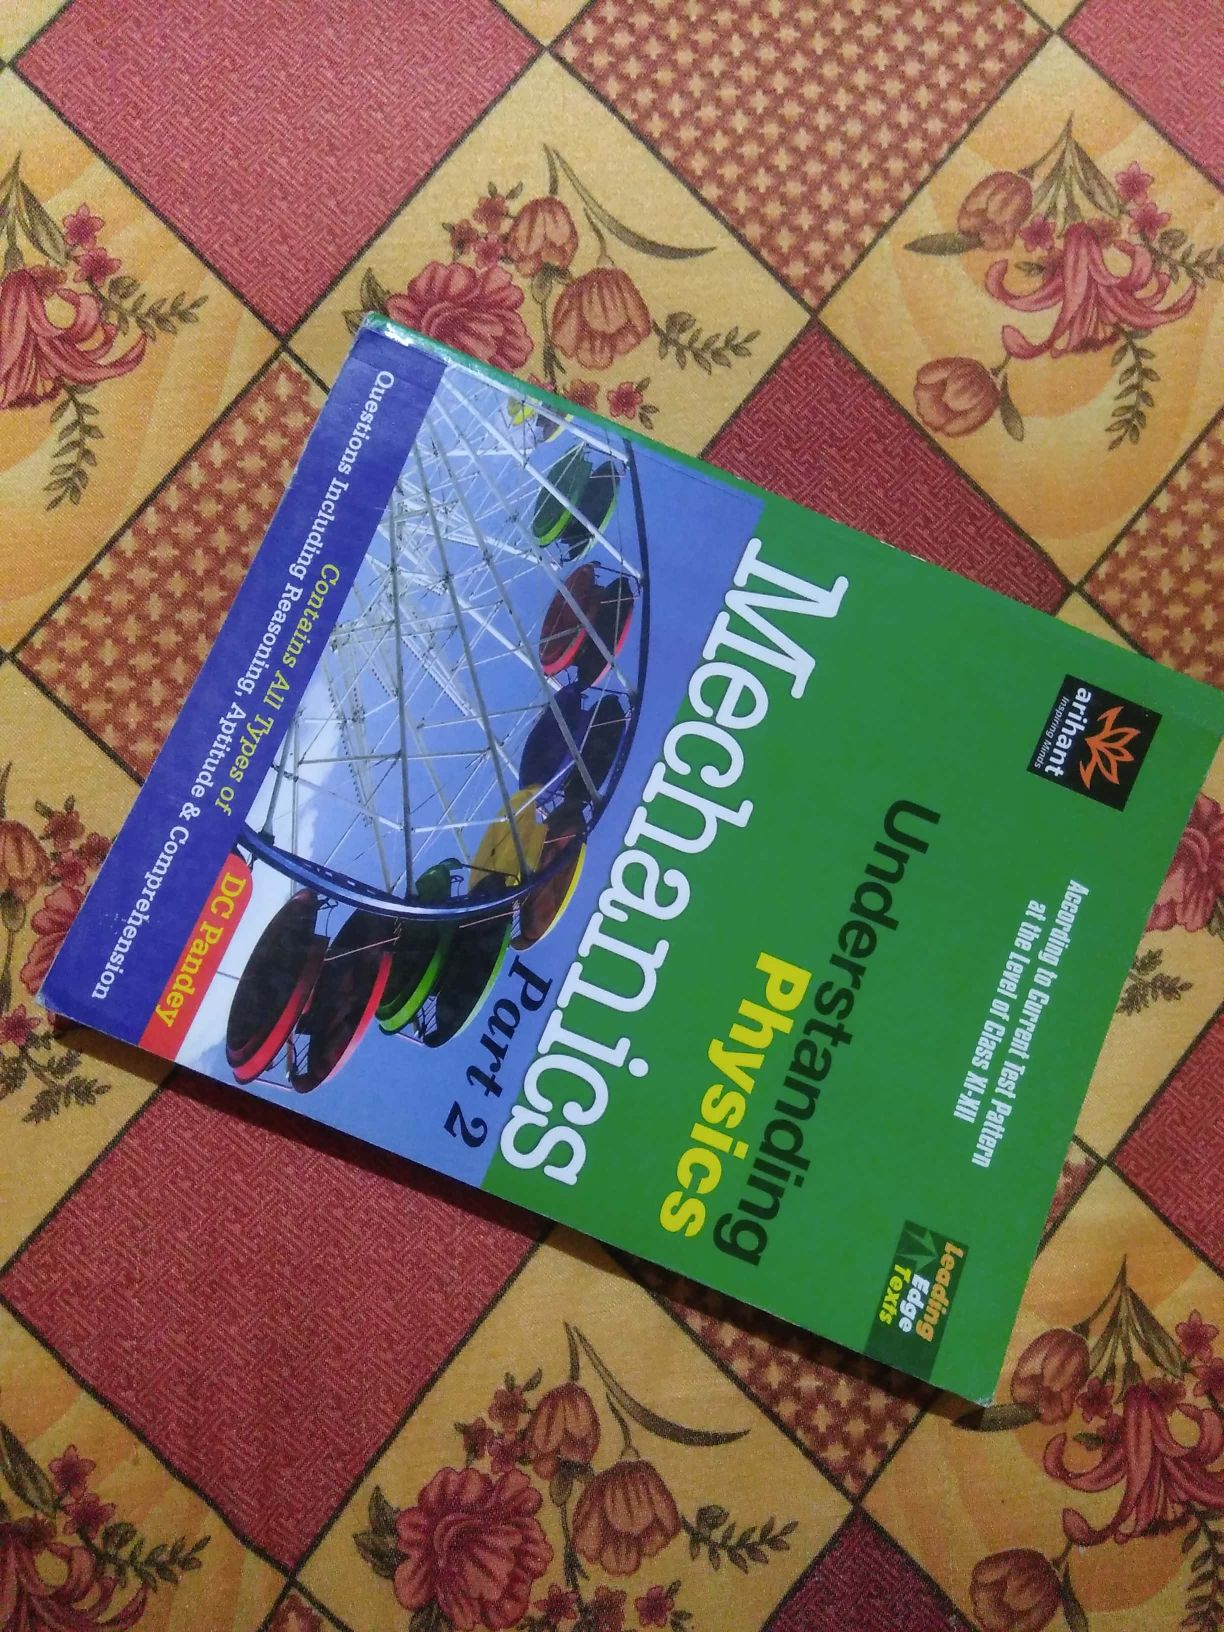mechanics: (64, 308, 1224, 1388)
